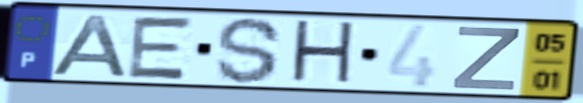4: (384, 22, 441, 91)
A: (46, 12, 133, 80)
E: (123, 14, 198, 83)
H: (287, 18, 358, 89)
S: (213, 15, 286, 86)
Z: (448, 24, 523, 93)
